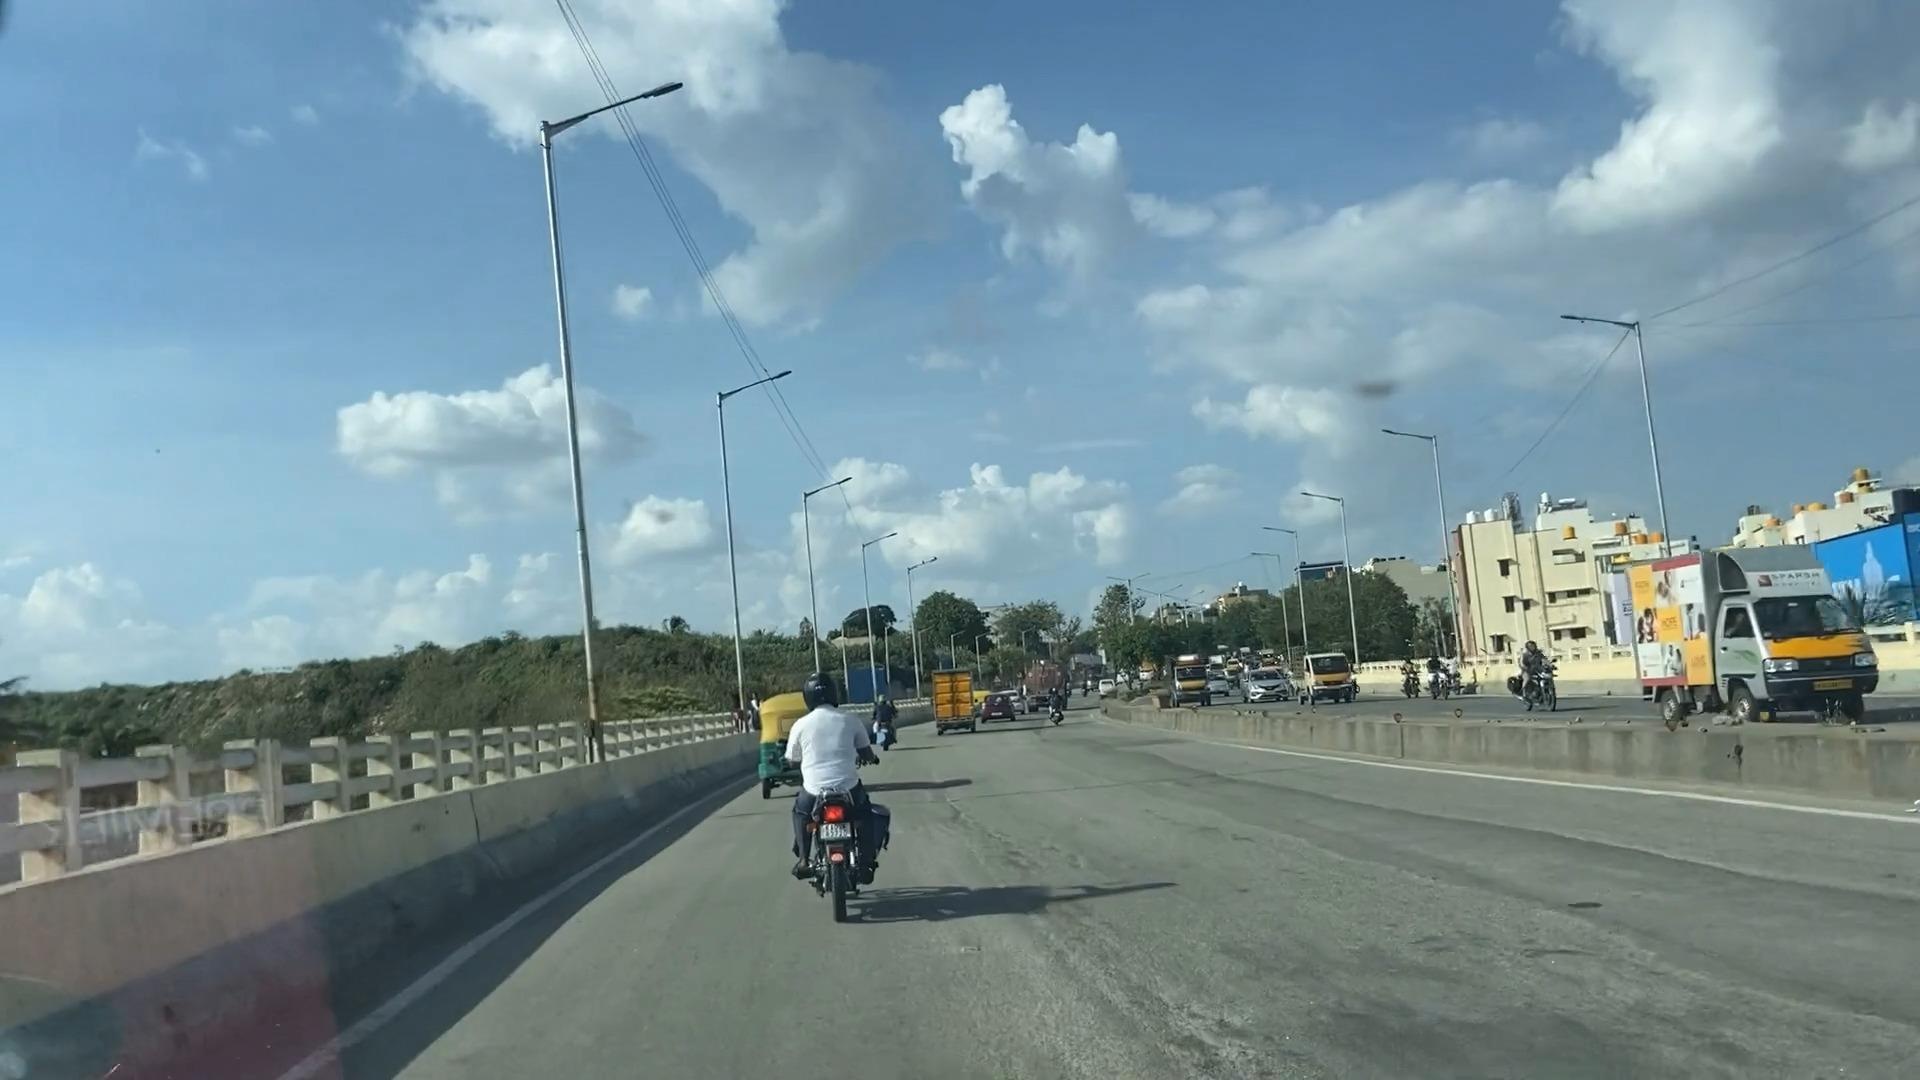HMV: (1605, 525, 1891, 732)
